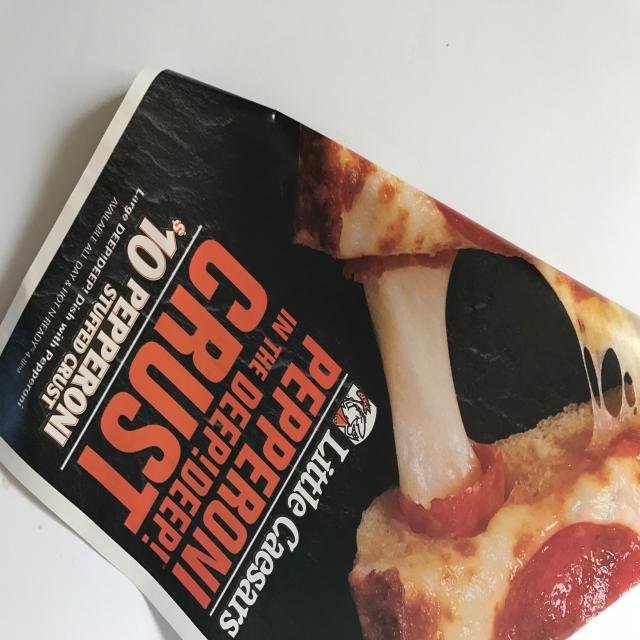paper: (1, 62, 640, 640)
